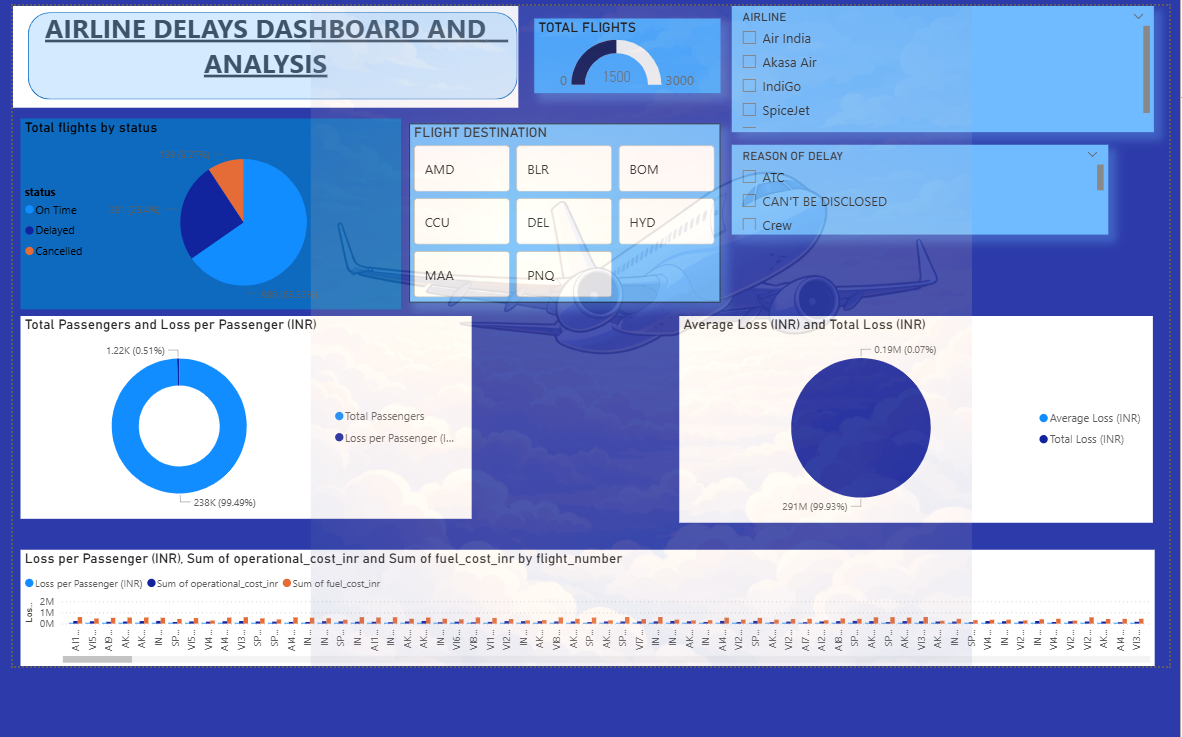

Layout of this report page (visuals, bound fields, positions):
{"tool":"powerbi","page":{"name":"Page 1","canvas":[1400,800],"ordinal":0},"visuals":[{"type":"textbox","box":[0,0,612,123],"z":0},{"type":"shape","box":[18.6,7.1,592.9,105.7],"z":1000},{"type":"gauge","fields":{"Y":["flight_data_cleaned.TOTAL FLIGHTS"]},"box":[631.2,14.8,225.2,90.4],"z":2000},{"type":"pieChart","fields":{"Y":["flight_data_cleaned.TOTAL FLIGHTS"],"Category":["flight_data_cleaned.status"]},"box":[8.9,136.3,460.8,231.2],"z":3000},{"type":"slicer","fields":{"Values":["flight_data_cleaned.airline"]},"box":[870,0,511.4,152.9],"z":4000},{"type":"slicer","fields":{"Values":["flight_data_cleaned.delay_reason"]},"box":[870,168.6,455.7,108.6],"z":5000},{"type":"advancedSlicerVisual","fields":{"Values":["flight_data_cleaned.destination"]},"box":[480,142.9,377.1,217.1],"z":6000},{"type":"donutChart","fields":{"Y":["flight_data_cleaned.Total Passengers","flight_data_cleaned.Loss per Passenger (INR)"]},"box":[8.9,374.9,546.8,246],"z":7000},{"type":"pieChart","fields":{"Y":["flight_data_cleaned.Average Loss (INR)","flight_data_cleaned.Total Loss (INR)"]},"box":[807.6,374.9,573.5,250.4],"z":8000},{"type":"lineClusteredColumnComboChart","fields":{"Y":["flight_data_cleaned.Loss per Passenger (INR)","Sum(flight_data_cleaned.operational_cost_inr)","Sum(flight_data_cleaned.fuel_cost_inr)"],"Category":["flight_data_cleaned.flight_number"]},"box":[8.3,658.3,1373.3,141.7],"z":9000},{"type":"image","box":[213.4,0,1095.1,800.2],"z":10000}]}

Visuals, with their boxes in screenshot pixels (x1, y1, x2, y2):
textbox: l=6, t=0, r=516, b=102
shape: l=22, t=6, r=515, b=94
gauge - flight_data_cleaned.TOTAL FLIGHTS: l=532, t=12, r=719, b=88
pieChart - flight_data_cleaned.TOTAL FLIGHTS x flight_data_cleaned.status: l=14, t=113, r=397, b=306
slicer - flight_data_cleaned.airline: l=731, t=0, r=1156, b=127
slicer - flight_data_cleaned.delay_reason: l=731, t=140, r=1110, b=231
advancedSlicerVisual - flight_data_cleaned.destination: l=406, t=119, r=720, b=300
donutChart - flight_data_cleaned.Total Passengers x flight_data_cleaned.Loss per Passenger (INR): l=14, t=312, r=469, b=517
pieChart - flight_data_cleaned.Average Loss (INR) x flight_data_cleaned.Total Loss (INR): l=679, t=312, r=1156, b=521
lineClusteredColumnComboChart - flight_data_cleaned.Loss per Passenger (INR) x Sum(flight_data_cleaned.operational_cost_inr): l=13, t=548, r=1156, b=666
image: l=184, t=0, r=1096, b=666
